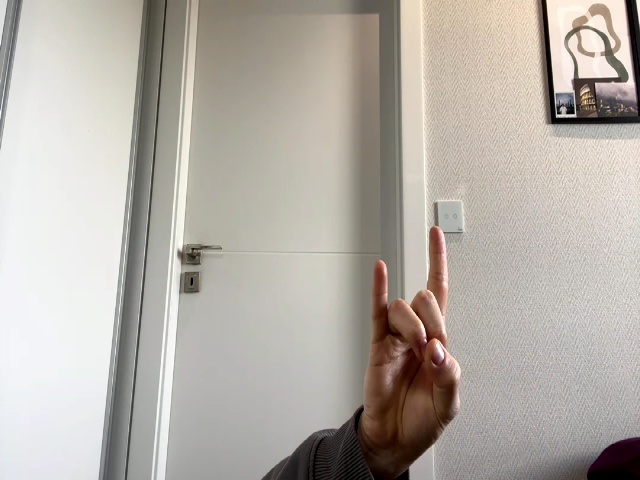Y: (364, 226, 461, 441)
